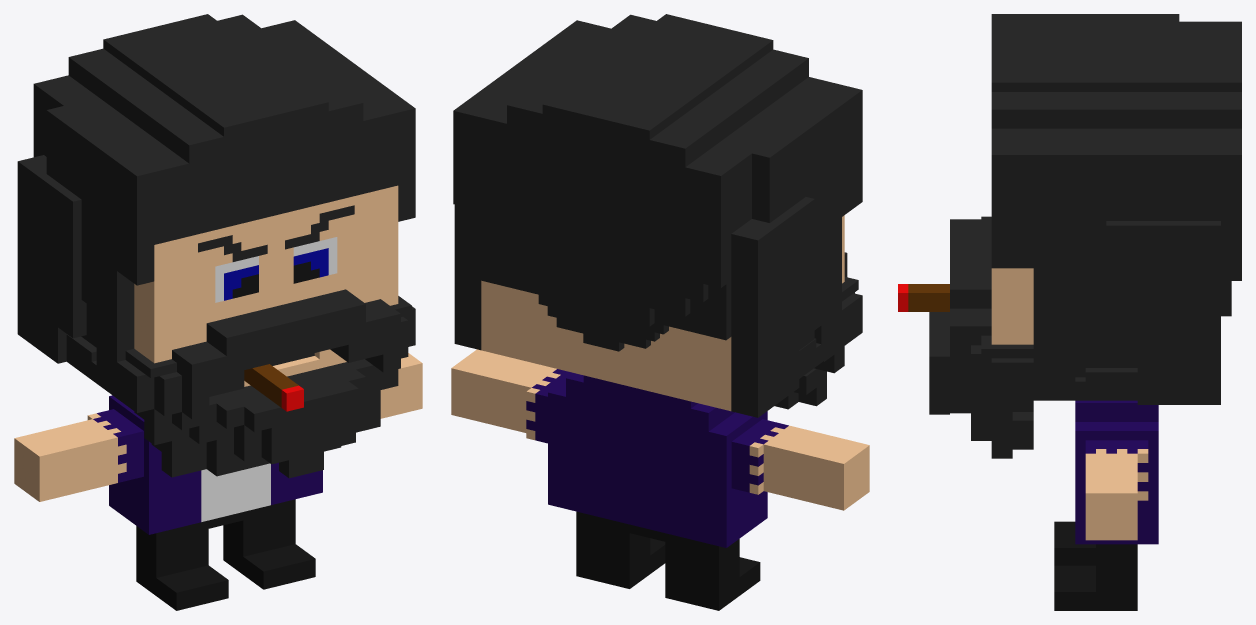
File: Graves.obj
3 renders of one model, left to right at view 1: azimuth 30°, elevation 25°; view 2: azimuth 150°, elevation 25°; view 3: azimuth 270°, elevation 25°, orthographic. The views are drawn at different scales.
Size of the model in its own units: 4.4 by 5.5 by 3.3.
Materials: 1 (1 with a texture image).
